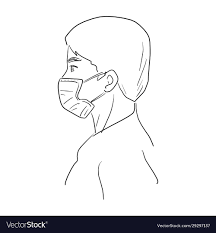masked: (52, 11, 157, 133)
